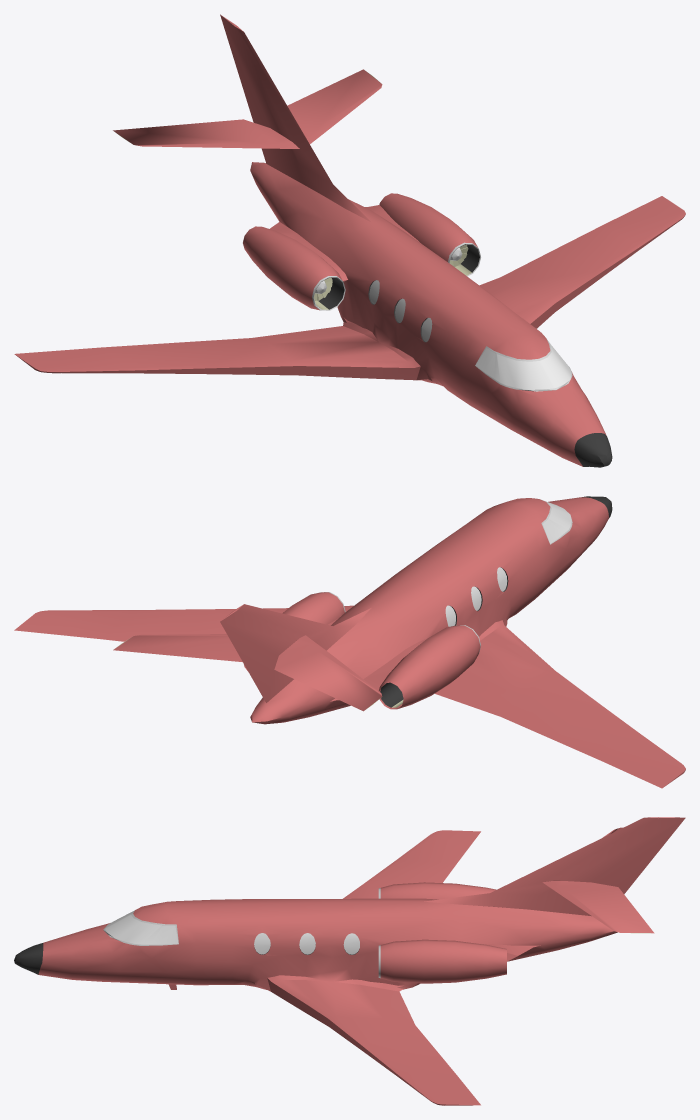
File: exterior.glb
3 renders of one model, top to bottom at view 1: azimuth 30°, elevation 25°; view 2: azimuth 150°, elevation 25°; view 3: azimuth 270°, elevation 25°, orthographic. The views are drawn at different scales.
Visible parts, largest first — view 1: Body_Fuselage, Wing_Right, Body_TailSection, Wing_Left, Engine_Outer_R, Engine_Outer_L, Glass_All, Body_Nose; view 2: Body_Fuselage, Wing_Right, Body_TailSection, Engine_Outer_R, Wing_Left, Glass_All, Engine_Outer_L; view 3: Body_Fuselage, Body_TailSection, Wing_Left, Engine_Outer_L, Wing_Right, Glass_All, Engine_Outer_R, Body_Nose.
Boxes of the visible parts, x1,y1,x2,y2 form: Body_Fuselage: (115,132,606,466); Wing_Right: (14,326,416,380); Body_TailSection: (113,14,382,221); Wing_Left: (479,196,685,328); Engine_Outer_R: (243,222,347,310); Engine_Outer_L: (365,193,480,276); Glass_All: (369,280,572,391); Body_Nose: (574,433,612,467); Body_Fuselage: (250,497,608,724); Wing_Right: (435,625,685,788); Body_TailSection: (113,604,382,711); Engine_Outer_R: (337,625,480,709); Wing_Left: (14,605,353,641); Glass_All: (445,499,572,626); Engine_Outer_L: (244,592,345,670); Body_Fuselage: (38,898,617,991); Body_TailSection: (424,817,685,933); Wing_Left: (271,980,480,1105); Engine_Outer_L: (378,939,532,983); Wing_Right: (343,830,480,898); Glass_All: (103,910,359,954); Engine_Outer_R: (378,882,496,899); Body_Nose: (14,943,43,974).
Size of the model in its own units: 13.18 by 3.86 by 13.65.
